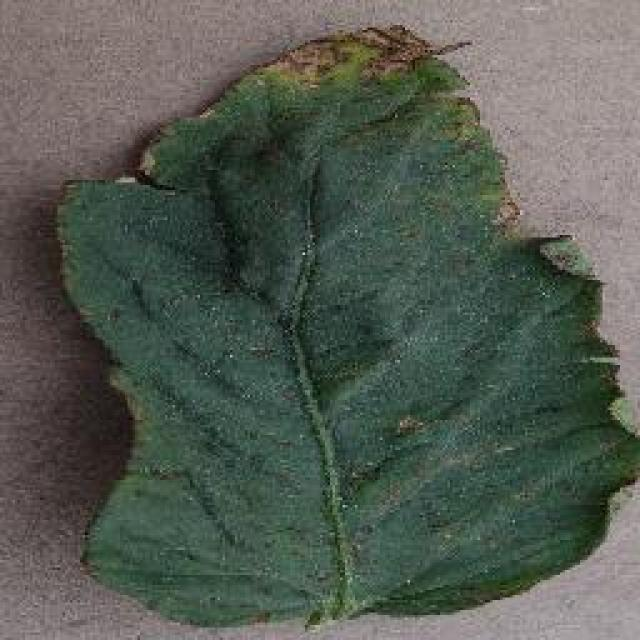bacterial spot: (59, 23, 639, 625)
